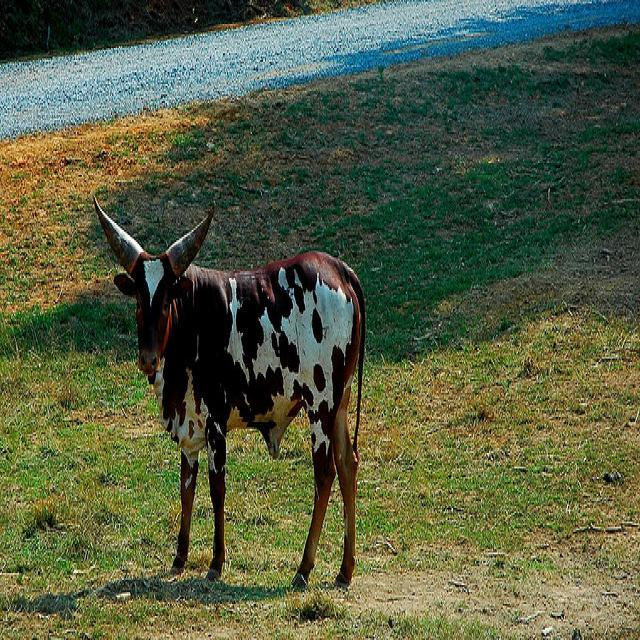cow: (93, 194, 367, 588)
